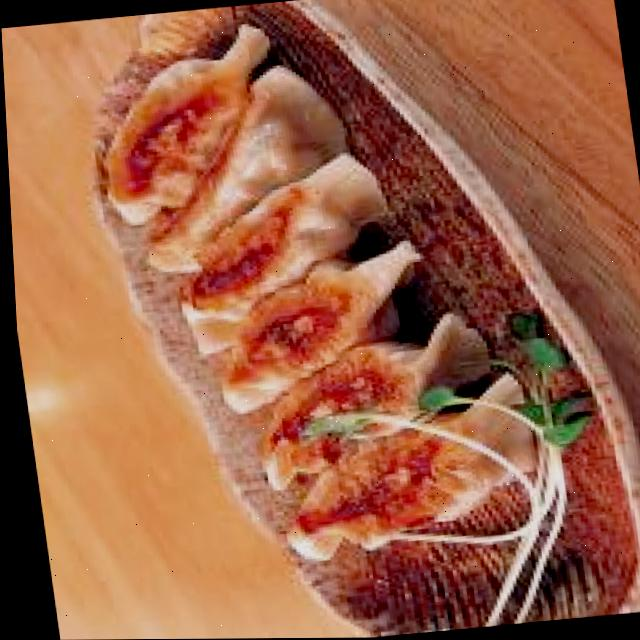带馅早点: (44, 0, 568, 584)
